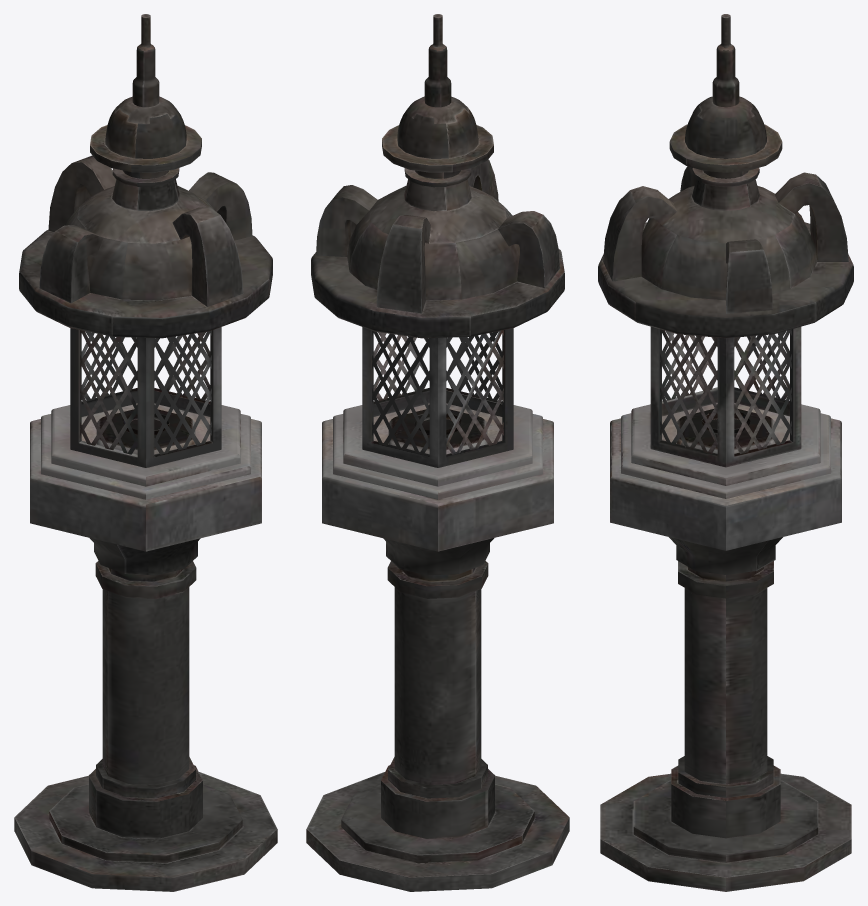
Rendered from stone_lantern_b.glb.
3 renders of one model, left to right at view 1: azimuth 30°, elevation 25°; view 2: azimuth 150°, elevation 25°; view 3: azimuth 270°, elevation 25°, orthographic.
Visible parts, largest first — view 1: 01_01_0; view 2: 01_01_0; view 3: 01_01_0.
Boxes of the visible parts, bbox=[...] form: 01_01_0: bbox=[14, 14, 277, 891]; 01_01_0: bbox=[306, 14, 569, 891]; 01_01_0: bbox=[598, 14, 853, 891].
Size of the model in its own units: 0.5918 by 2 by 0.5652.
2 materials, 1 textured.
